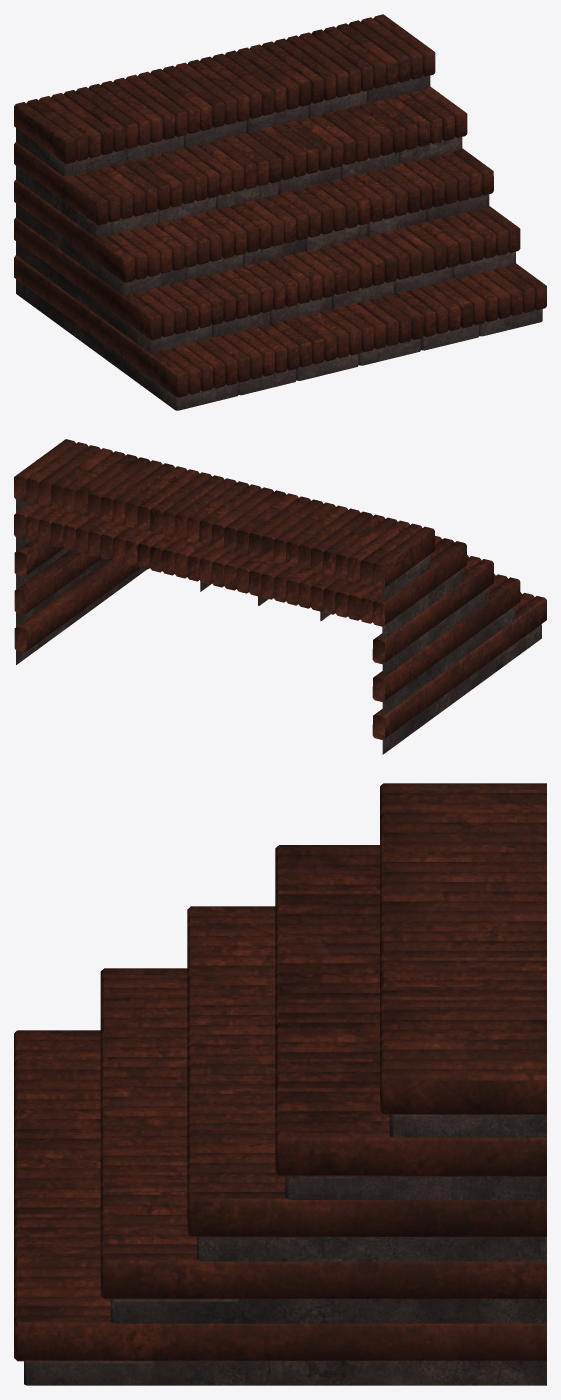
The model's file is SK2 STAIR EXT.fbx.
3 renders of one model, top to bottom at view 1: azimuth 30°, elevation 25°; view 2: azimuth 150°, elevation 25°; view 3: azimuth 270°, elevation 25°, orthographic. The views are drawn at different scales.
Visible parts, largest first — view 1: SK2 STAIR EXT.003; view 2: SK2 STAIR EXT.003; view 3: SK2 STAIR EXT.003.
Boxes of the visible parts, <box> form: SK2 STAIR EXT.003: <box>14,14,546,410</box>; SK2 STAIR EXT.003: <box>14,439,546,754</box>; SK2 STAIR EXT.003: <box>14,783,546,1385</box>.
Bounding box in the file's own units: 197 × 96.52 × 150.
